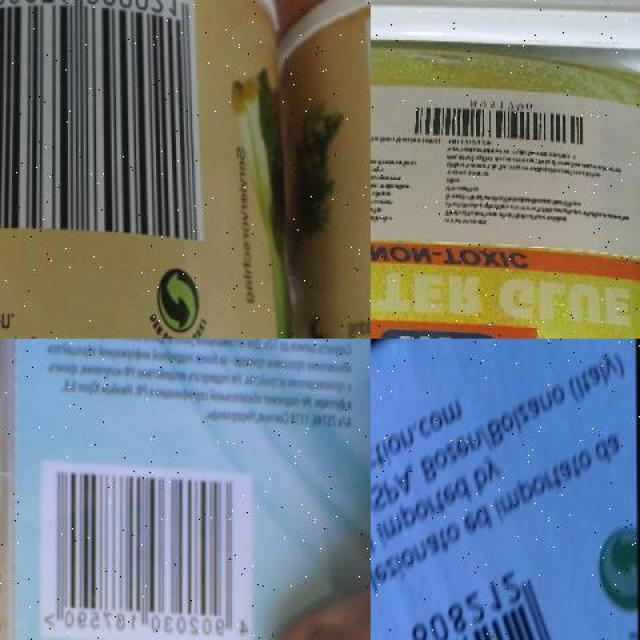Barcode: (0, 0, 200, 236), (37, 461, 252, 640), (370, 548, 602, 640), (407, 97, 593, 143)
